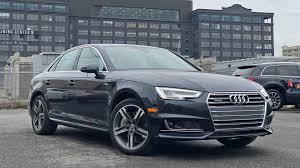non-ambulance: (29, 45, 272, 153), (233, 62, 299, 109)
